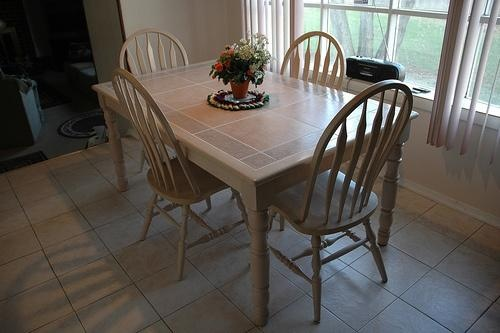chair: (250, 84, 415, 321), (110, 70, 256, 275), (280, 31, 348, 91), (117, 29, 183, 78)
diningtable: (94, 56, 424, 325)
